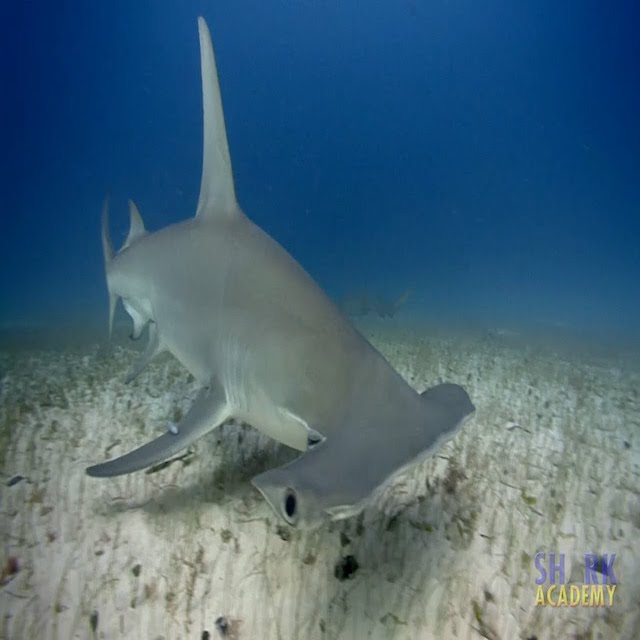hammerhead: (58, 1, 492, 541)
